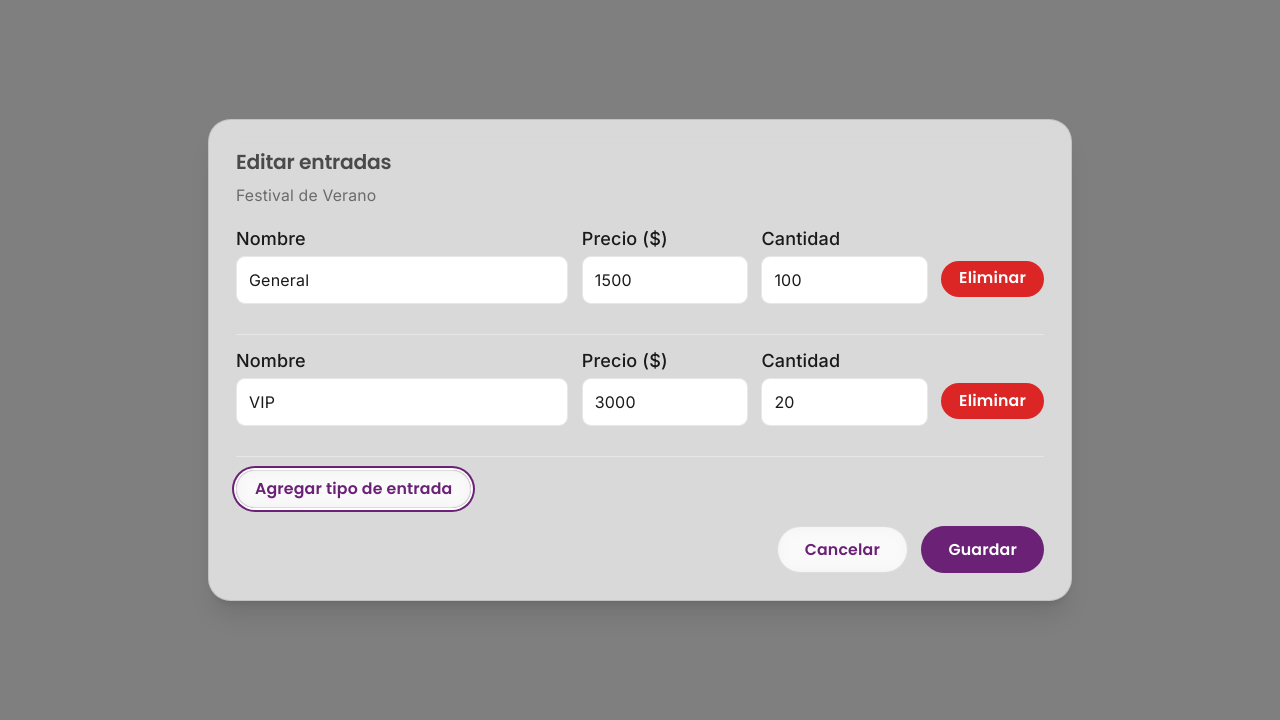
it: EditTicketsModal › rejects an empty name and focuses the first invalid field with a role="alert"
The image size is (1280, 720).
Clear the field named "Nombre de la entrada 2". click: [402, 402]
box: [236, 378, 568, 426]
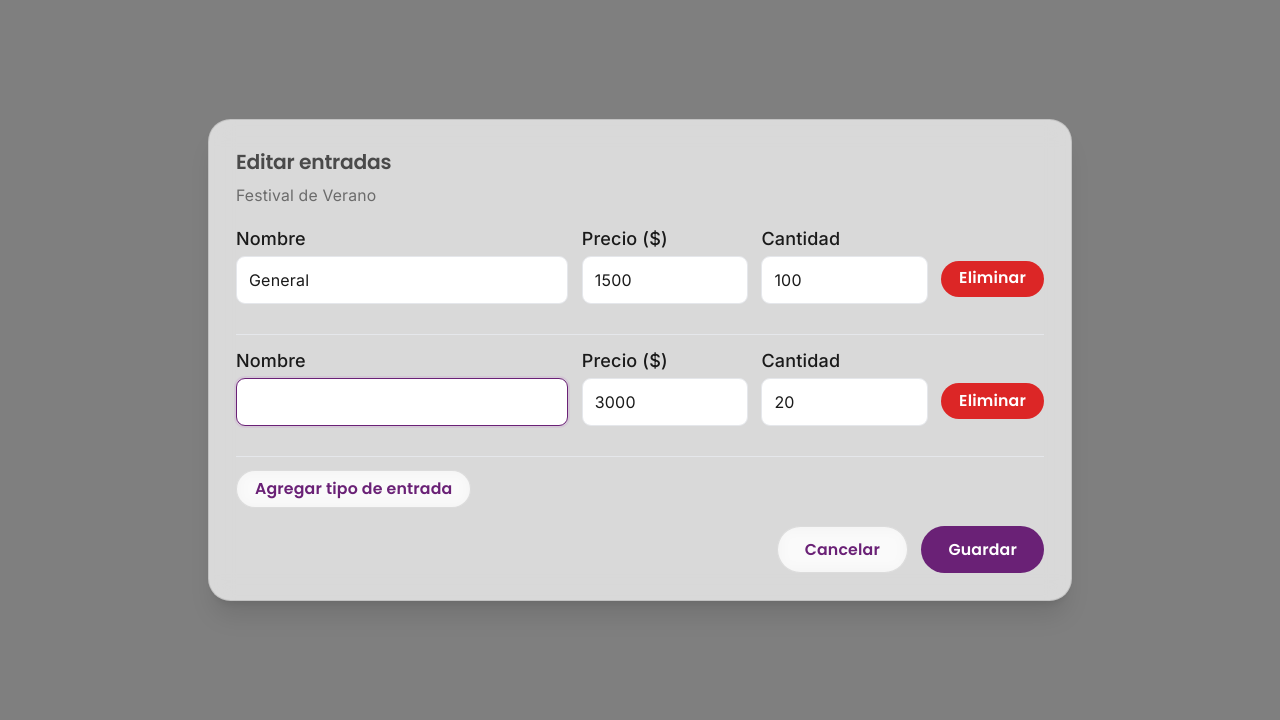
Click the button "Guardar". click: [983, 550]
box: [922, 526, 1044, 574]
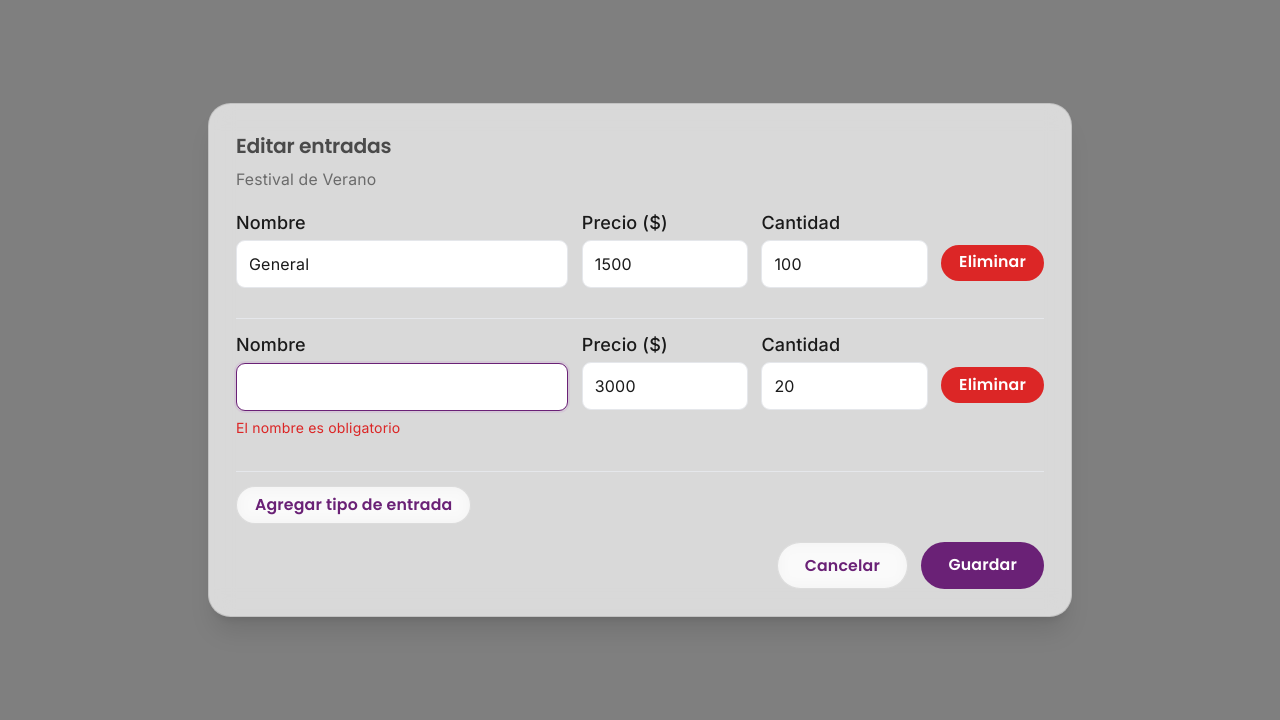
Check: the message shows "nombre es obligatorio", box [236, 419, 400, 436]
